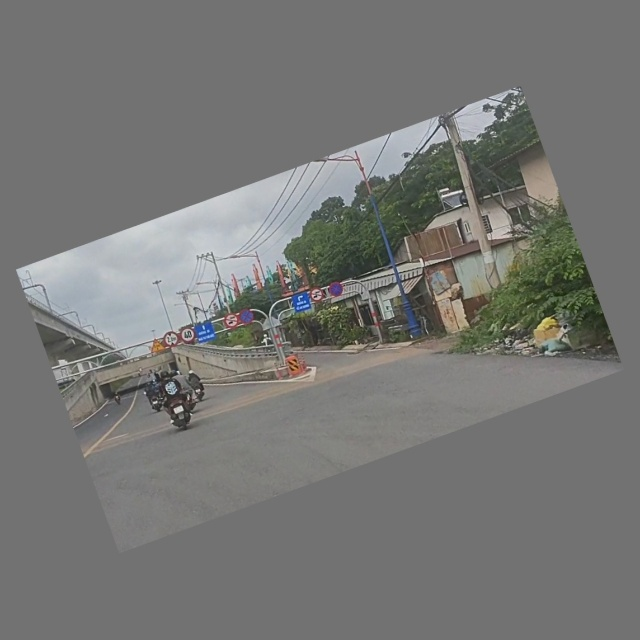P.107: (221, 311, 242, 331), (308, 285, 326, 305)
P.117*: (161, 328, 182, 350)
P.127*40: (178, 326, 198, 346)
P.130: (327, 280, 346, 300), (238, 307, 256, 326)
W.239b*: (147, 336, 167, 356)
